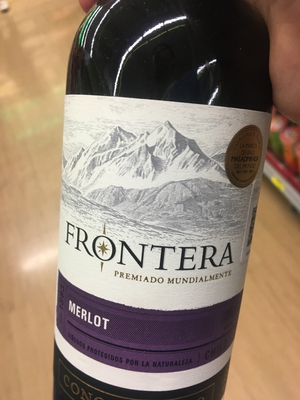frontera merlot: (55, 30, 272, 399)
